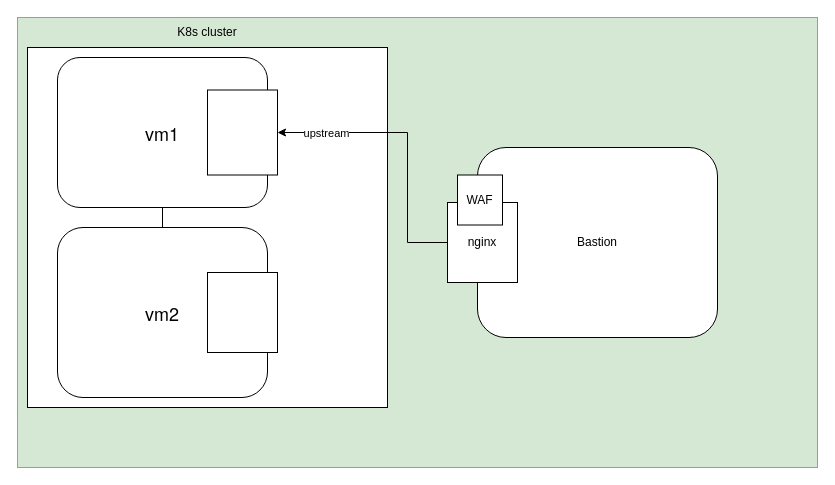
Some shapes in this 835 by 485 pixel diagram are drawn without their labels. The shapes that lost their labels are listed below. From the top down, each one's centre as x and y in pixels, then its label:
(242,132): worker node k8s
(242,312): master node k8s
